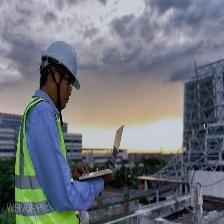Person: (14, 33, 95, 224)
helmet: (38, 36, 84, 90)
vest: (11, 95, 80, 224)
